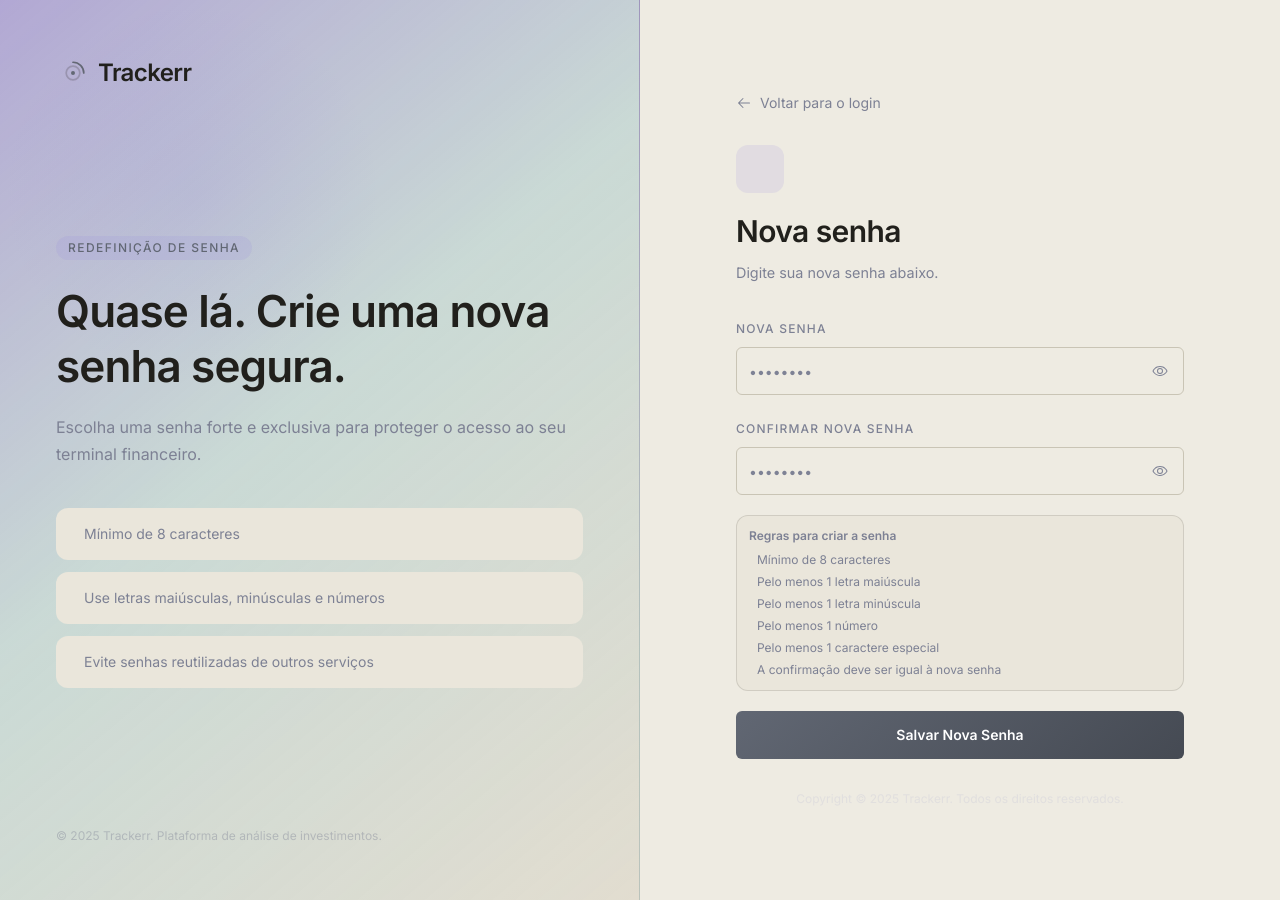
Test: ResetPassword › deve exibir erro quando senha não tem caractere especial
Type "Password1234" into the 1st password field with placeholder "••••••••".
click(960, 371); type("Password1234")  # box [736, 347, 1184, 395]
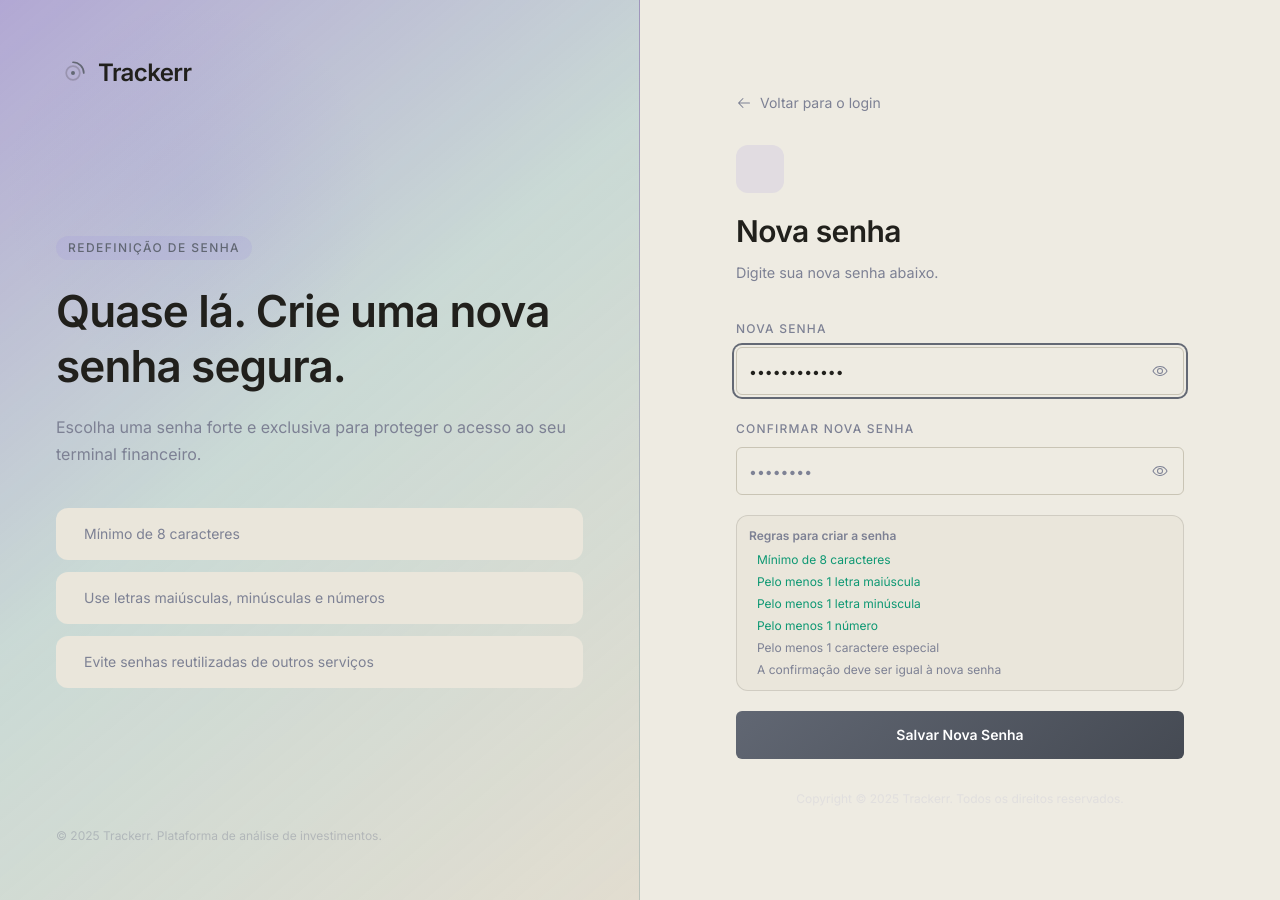
Type "Password1234" into the password field with placeholder "••••••••".
click(960, 471); type("Password1234")  # box [736, 447, 1184, 495]
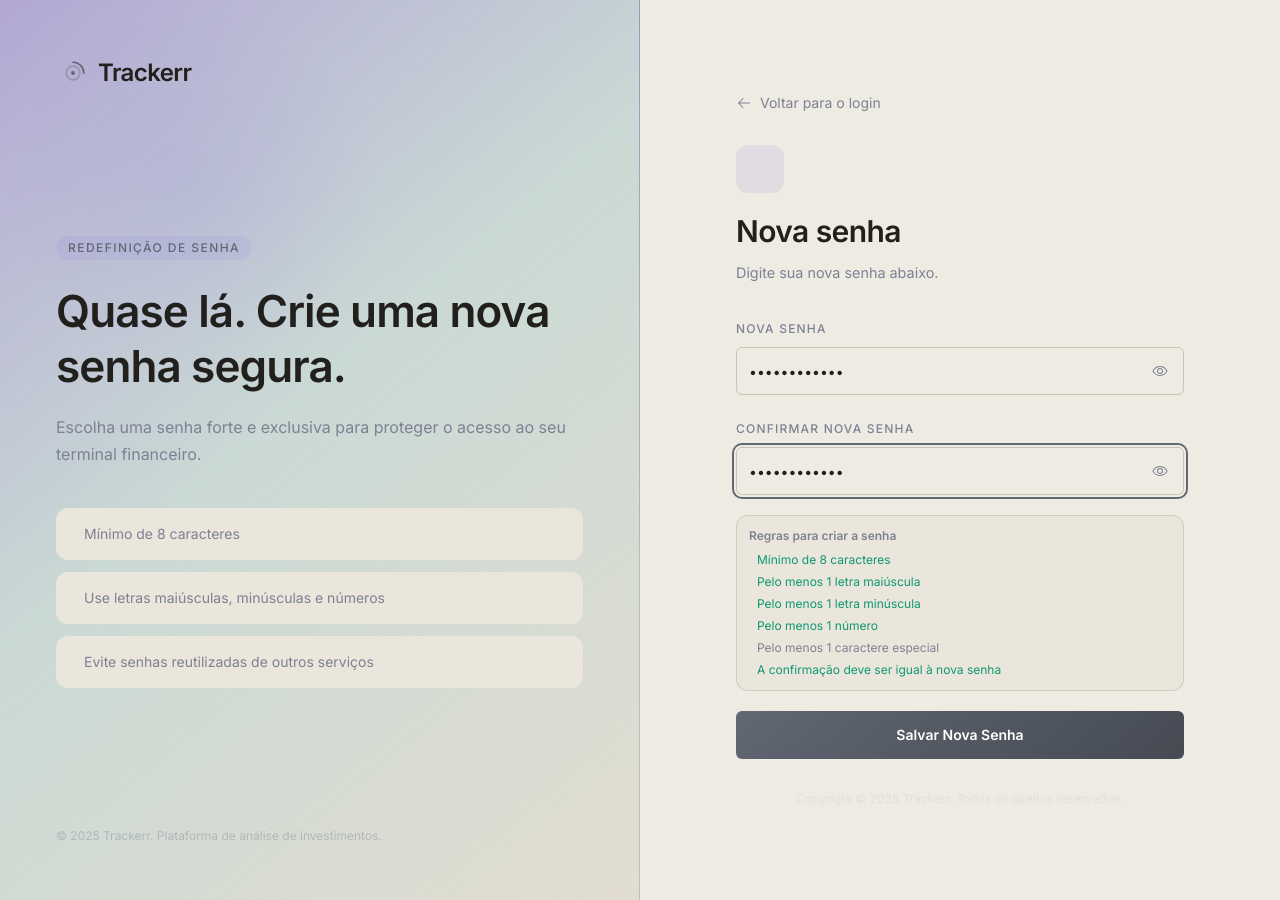
Click the button "Salvar Nova Senha".
click(960, 735)  # box [736, 711, 1184, 759]
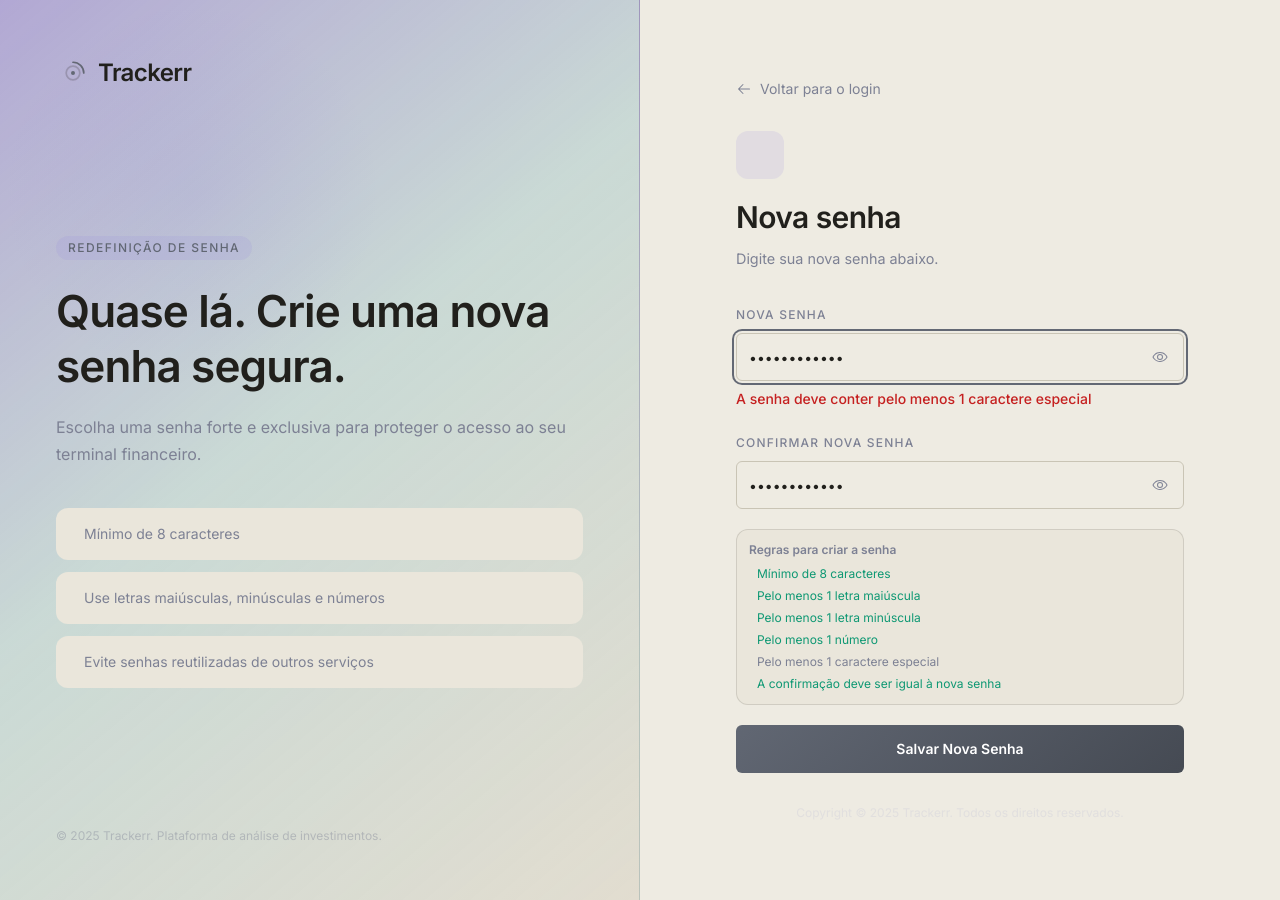
Check: the text "A senha deve conter pelo menos 1 caractere especial" is shown, box [736, 390, 1091, 407]
